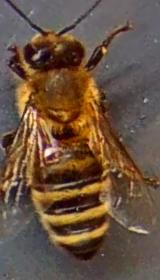varroa_mite: (26, 136, 72, 172)
